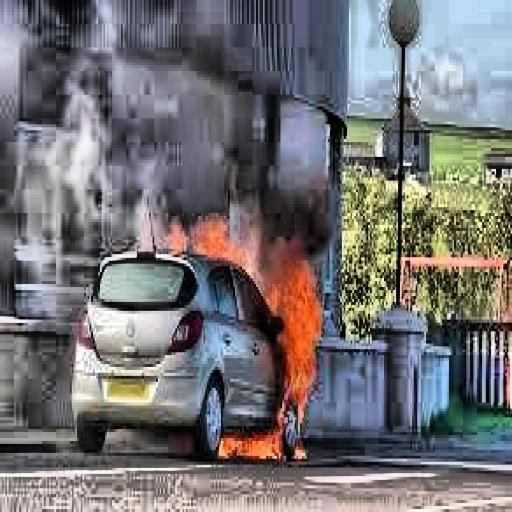fire: (168, 216, 319, 376), (210, 408, 310, 480)
